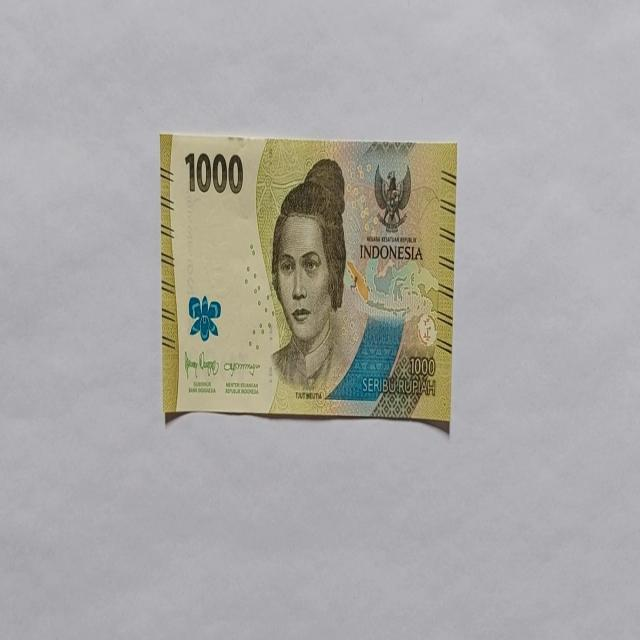seribu rupiah kertas: (159, 132, 457, 430)
